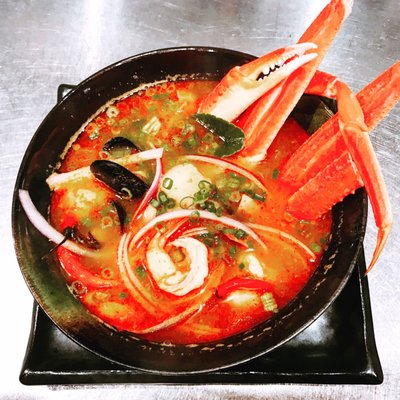sandwich: (18, 26, 396, 364)
